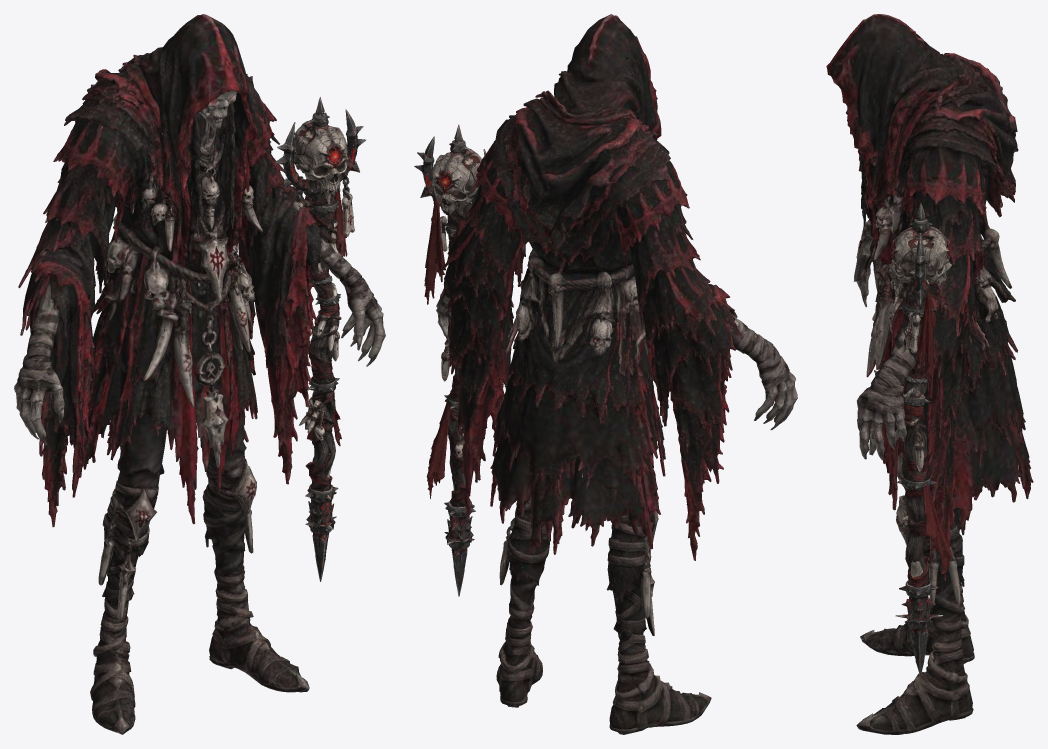
Rendered from black_bishop_armed.glb.
3 renders of one model, left to right at view 1: azimuth 30°, elevation 25°; view 2: azimuth 150°, elevation 25°; view 3: azimuth 270°, elevation 25°, orthographic. The views are drawn at different scales.
Parts seen in each view (by area): view 1: Black_Bishop, Bishop_Staff; view 2: Black_Bishop, Bishop_Staff; view 3: Black_Bishop, Bishop_Staff.
Boxes of the visible parts, left/top/right/bottom form: Black_Bishop: left=14, top=14, right=385, bottom=734; Bishop_Staff: left=275, top=97, right=365, bottom=581; Black_Bishop: left=436, top=14, right=797, bottom=734; Bishop_Staff: left=414, top=124, right=486, bottom=596; Black_Bishop: left=826, top=14, right=1033, bottom=734; Bishop_Staff: left=889, top=203, right=952, bottom=676.
Size of the model in its own units: 1.06 by 1.9 by 0.5276.
Materials: 2 (2 with a texture image).
